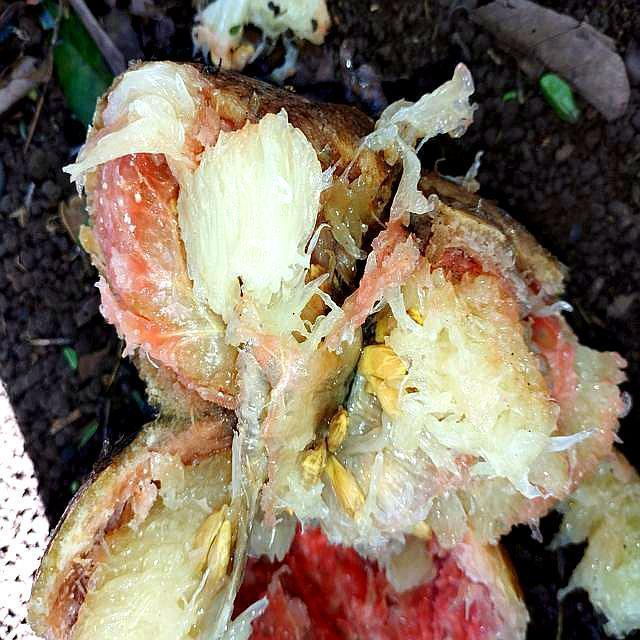Biodegradable: (47, 71, 640, 640)
